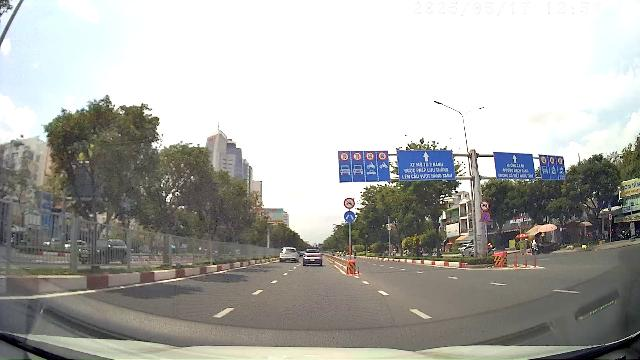127-toc-do-toi-da-60: (378, 152, 388, 160), (366, 152, 374, 160)
127-toc-do-toi-da-70: (340, 152, 350, 162), (352, 151, 362, 161)
130-cam-dung-va-do-xe: (481, 212, 491, 222)
